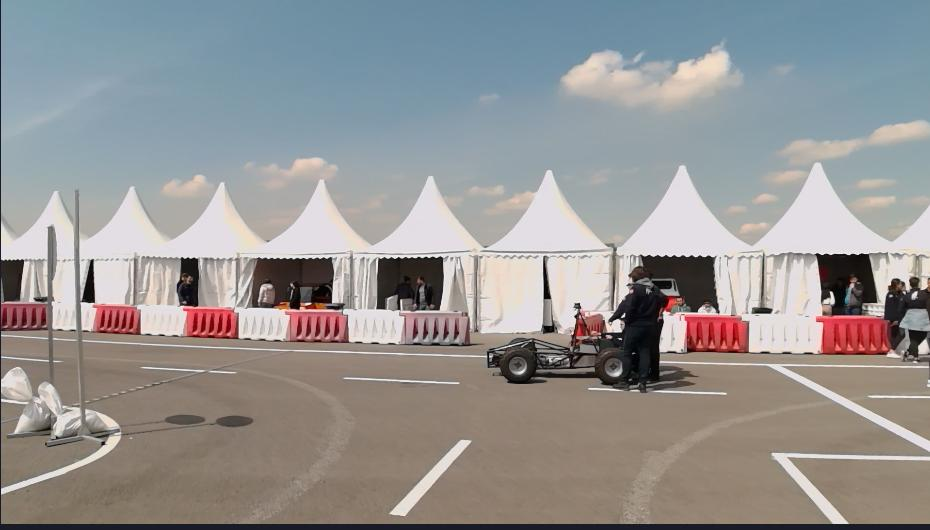nesne: (0, 334, 929, 529), (383, 363, 929, 526), (0, 373, 516, 529), (660, 361, 930, 529), (51, 302, 467, 341), (0, 332, 486, 359), (485, 304, 619, 384), (0, 411, 119, 498), (605, 259, 664, 392), (392, 437, 472, 517), (33, 378, 108, 440), (0, 367, 54, 434), (826, 310, 890, 353), (750, 317, 826, 352), (689, 313, 749, 350), (403, 312, 469, 345), (905, 273, 930, 357), (885, 273, 909, 351), (290, 309, 347, 340), (348, 310, 403, 341), (182, 308, 242, 336), (241, 307, 290, 341), (657, 310, 689, 355), (342, 374, 457, 386), (52, 302, 97, 332), (141, 305, 185, 335), (96, 305, 140, 333), (0, 304, 48, 328), (140, 364, 233, 376), (837, 269, 861, 314), (785, 360, 930, 367), (384, 274, 414, 306), (174, 267, 196, 302), (647, 386, 727, 395), (254, 277, 277, 306), (414, 274, 432, 308), (696, 297, 722, 318), (0, 353, 60, 362), (670, 293, 697, 311), (869, 393, 929, 401), (288, 277, 299, 305), (590, 384, 622, 389)
